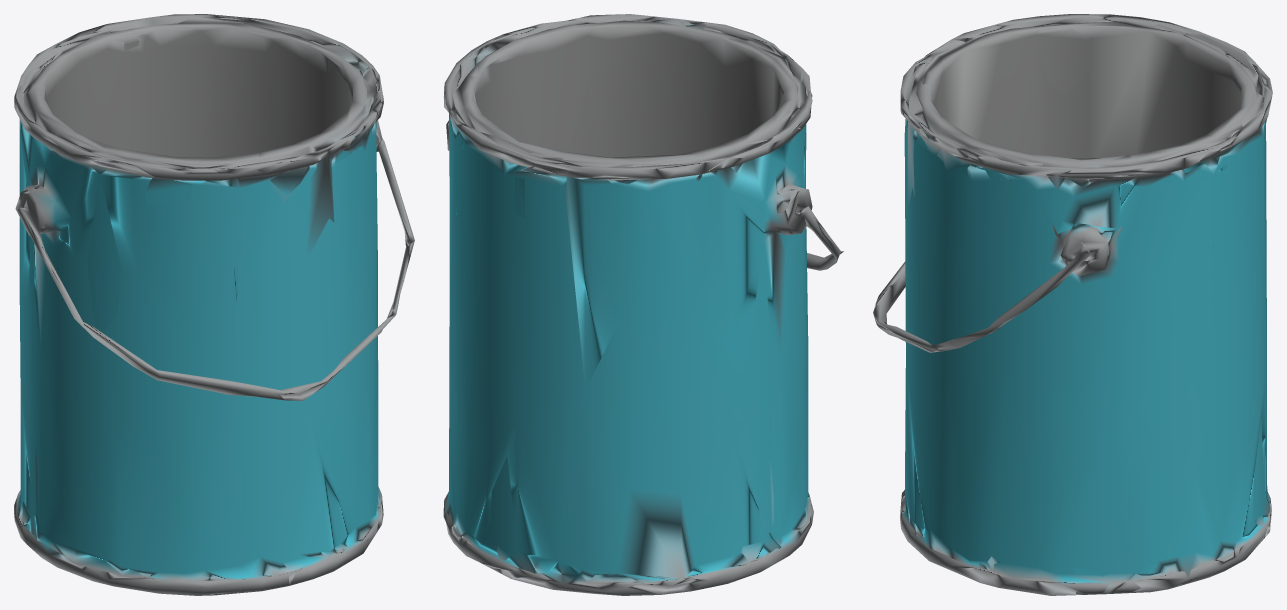
The model's file is gen3d-paint-can-lod0.glb.
3 renders of one model, left to right at view 1: azimuth 30°, elevation 25°; view 2: azimuth 150°, elevation 25°; view 3: azimuth 270°, elevation 25°, orthographic.
Parts seen in each view (by area): view 1: part_0; view 2: part_0; view 3: part_0.
Boxes of the visible parts, x1,y1,x2,y2 form: part_0: [14, 14, 414, 595]; part_0: [443, 14, 843, 595]; part_0: [873, 14, 1272, 595].
Size of the model in its own units: 0.8729 by 1 by 0.8467.
